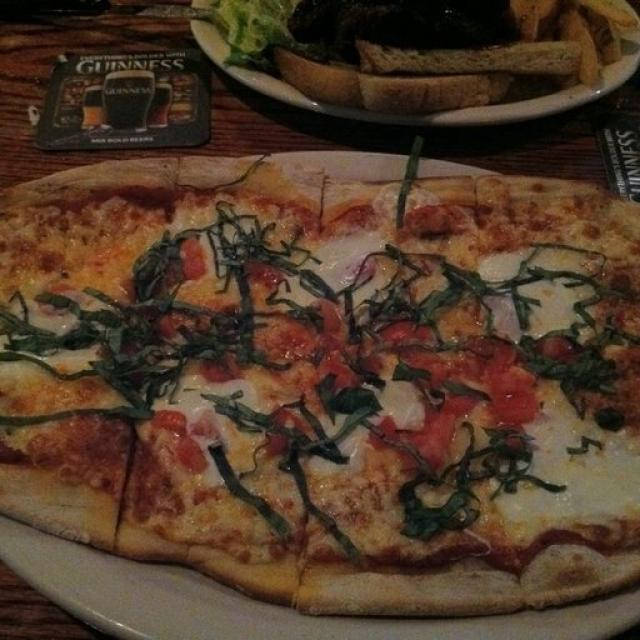Basil: (208, 440, 288, 547), (288, 455, 367, 556), (203, 208, 257, 308), (106, 296, 156, 403), (384, 482, 478, 538), (304, 382, 384, 446), (0, 308, 112, 350), (255, 242, 332, 297), (175, 306, 253, 356), (463, 434, 530, 489), (439, 260, 508, 308), (375, 337, 442, 382), (368, 283, 437, 326), (129, 244, 180, 299), (511, 264, 601, 294), (590, 318, 636, 354), (554, 359, 608, 388), (220, 400, 266, 430), (560, 434, 610, 461), (592, 406, 629, 434), (292, 299, 320, 325)
Pizza: (1, 155, 640, 615)
Tomato: (407, 341, 546, 424), (412, 387, 474, 455), (306, 302, 358, 379), (156, 404, 208, 473), (384, 314, 440, 345), (244, 257, 292, 292), (173, 229, 204, 277), (530, 332, 586, 358), (268, 321, 314, 344)
